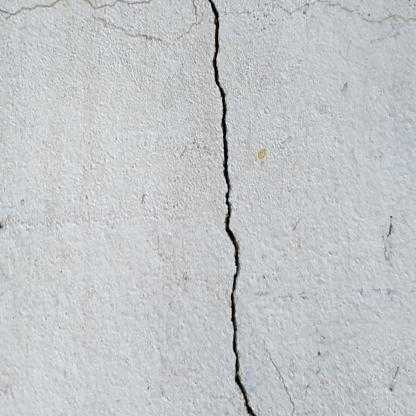crack: (208, 0, 258, 416)
